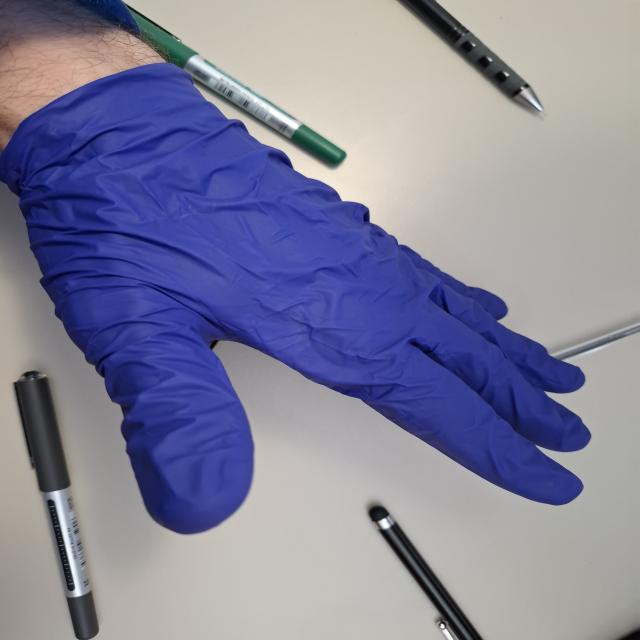glove_on: (0, 61, 599, 538)
